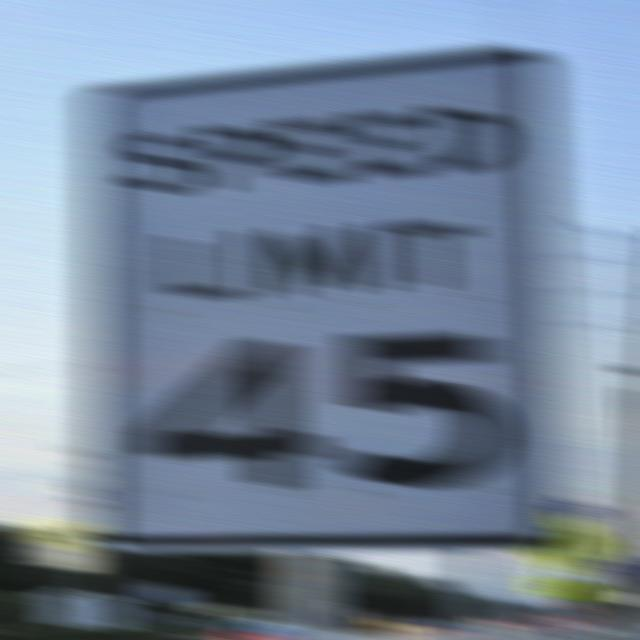speedLimit45: (95, 84, 541, 546)
